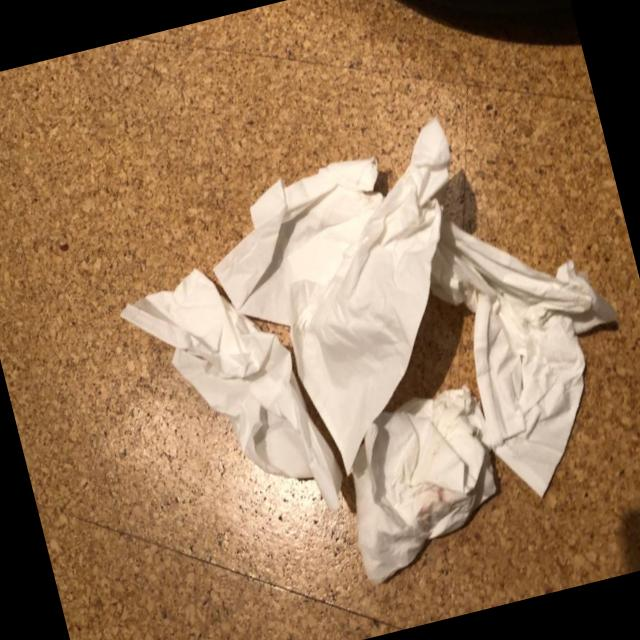organic waste: (189, 112, 524, 499), (413, 177, 640, 512), (110, 243, 347, 552), (323, 378, 517, 590)
